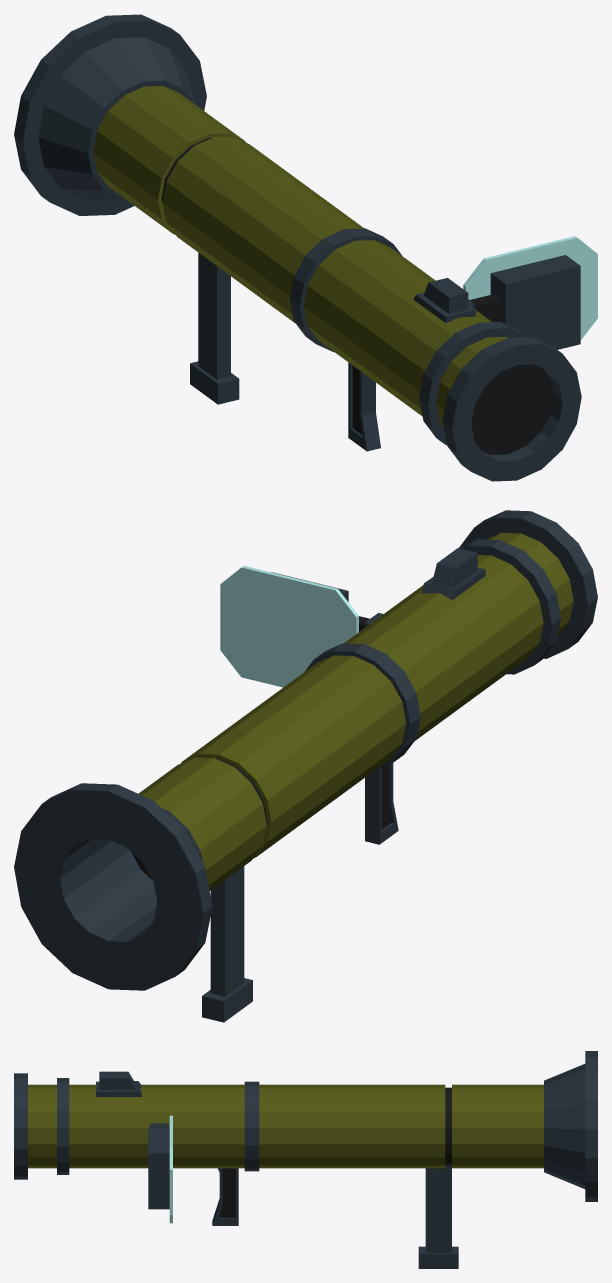
Rendered from RocketLauncher.fbx.
3 views of the same model, one above another, from view 1: azimuth 30°, elevation 25°; view 2: azimuth 150°, elevation 25°; view 3: azimuth 270°, elevation 25° (orthographic). The views are drawn at different scales.
Visible parts, largest first — view 1: Cylinder; view 2: Cylinder; view 3: Cylinder.
Boxes of the visible parts, box(x1,y1,x2,y2) form: Cylinder: box(14, 14, 597, 481); Cylinder: box(14, 510, 597, 1022); Cylinder: box(14, 1051, 597, 1268).
Bounding box in the file's own units: 55.38 × 54.92 × 140.
